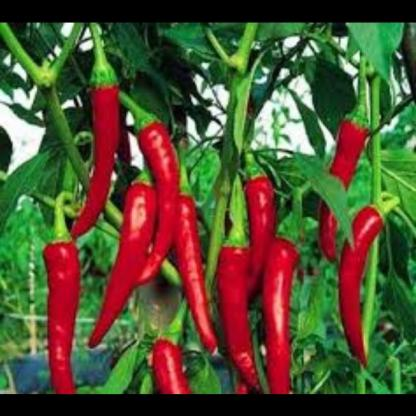hot pepper: (84, 175, 167, 350), (57, 50, 132, 233), (317, 84, 384, 258), (324, 205, 393, 367), (139, 89, 183, 304), (177, 177, 224, 359), (32, 238, 86, 394), (219, 223, 264, 394), (261, 236, 303, 394), (142, 320, 197, 394)
